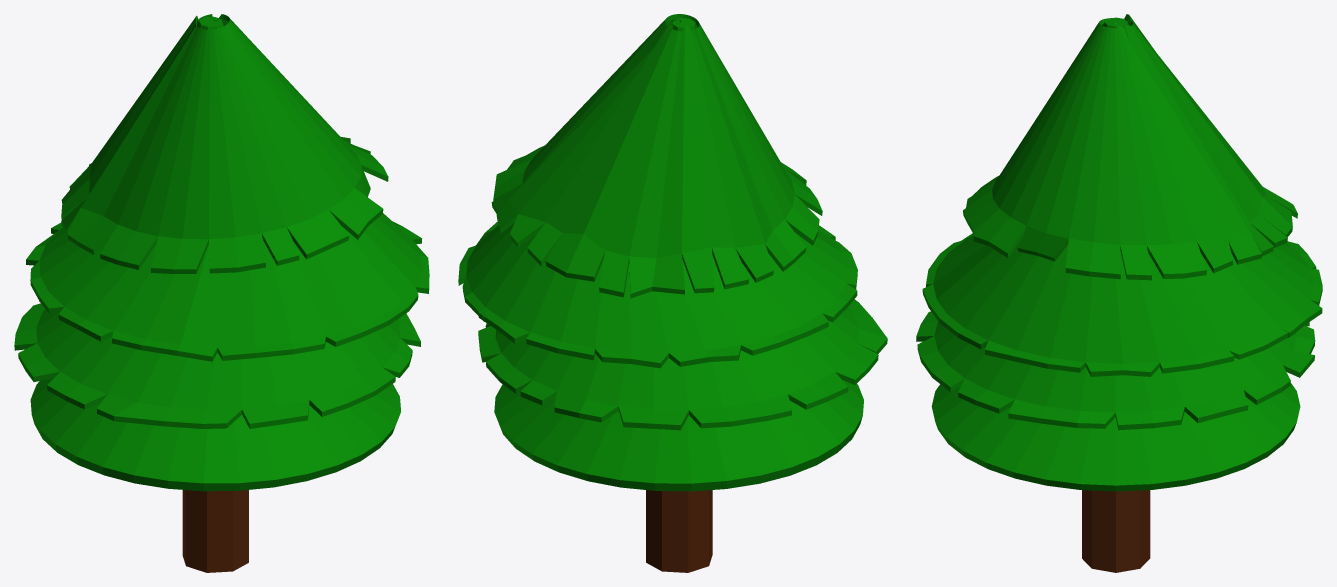
Rendered from pinetree5.fbx.
3 views of the same model, side by side, from view 1: azimuth 30°, elevation 25°; view 2: azimuth 150°, elevation 25°; view 3: azimuth 270°, elevation 25° (orthographic).
Parts seen in each view (by area): view 1: Cylinder; view 2: Cylinder; view 3: Cylinder.
Part boxes in pixels (x1,y1,x2,y2): Cylinder: (14, 14, 429, 572); Cylinder: (458, 14, 887, 572); Cylinder: (916, 14, 1322, 572).
Size of the model in its own units: 440 by 617 by 423.
